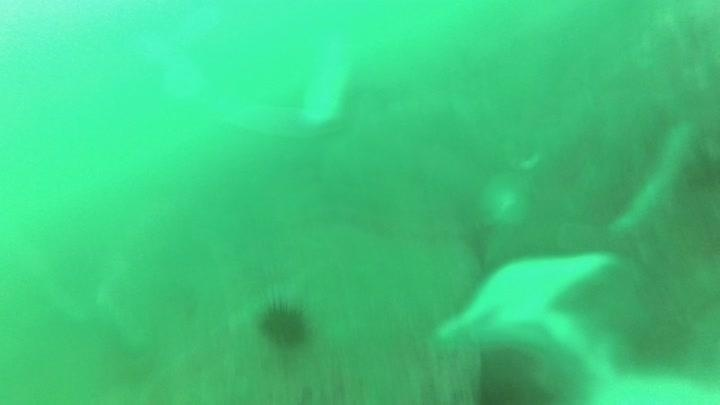echinus: (619, 306, 698, 372), (255, 297, 313, 351)
